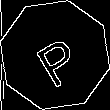P_NW: (26, 24, 84, 86)
